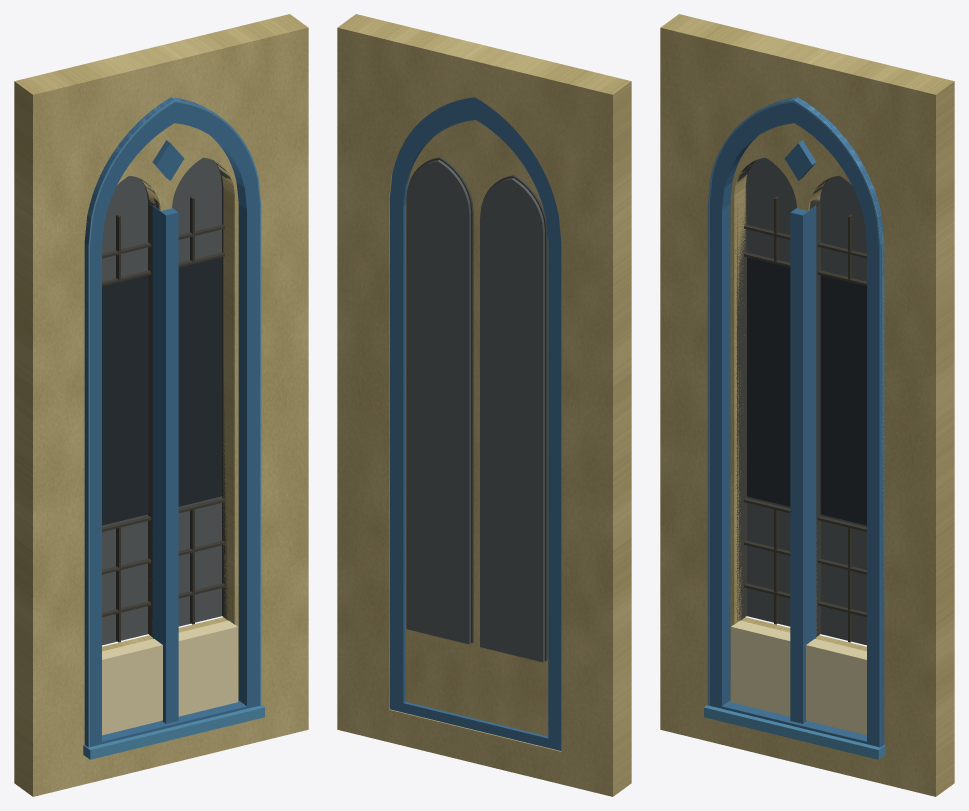
File: canton-baptist-tower-paired-lancets-near.glb
3 views of the same model, side by side, from view 1: azimuth 30°, elevation 25°; view 2: azimuth 150°, elevation 25°; view 3: azimuth 330°, elevation 25° (orthographic).
Parts seen in each view (by area): view 1: 广东浸信会堂旧址塔楼双联尖券长窗; view 2: 广东浸信会堂旧址塔楼双联尖券长窗; view 3: 广东浸信会堂旧址塔楼双联尖券长窗.
Part boxes in pixels (x1,y1,x2,y2): 广东浸信会堂旧址塔楼双联尖券长窗: [14, 14, 308, 796]; 广东浸信会堂旧址塔楼双联尖券长窗: [337, 14, 631, 796]; 广东浸信会堂旧址塔楼双联尖券长窗: [660, 14, 954, 796].
Size of the model in its own units: 2.3 by 5.6 by 0.375.
9 materials, 1 textured.
